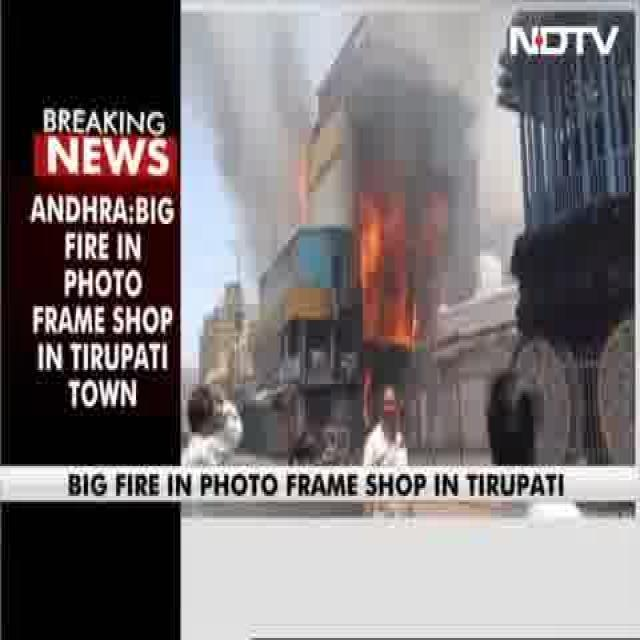Fire: (360, 195, 456, 360)
Smoke: (242, 35, 308, 236)
